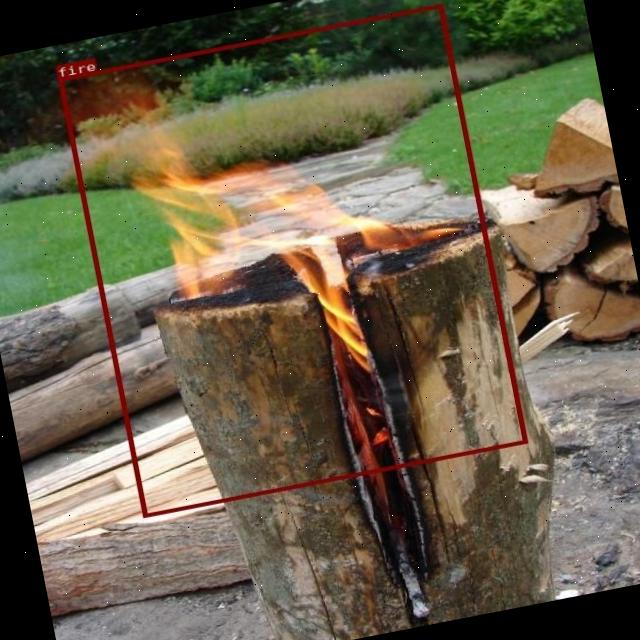fire: (57, 2, 527, 518)
